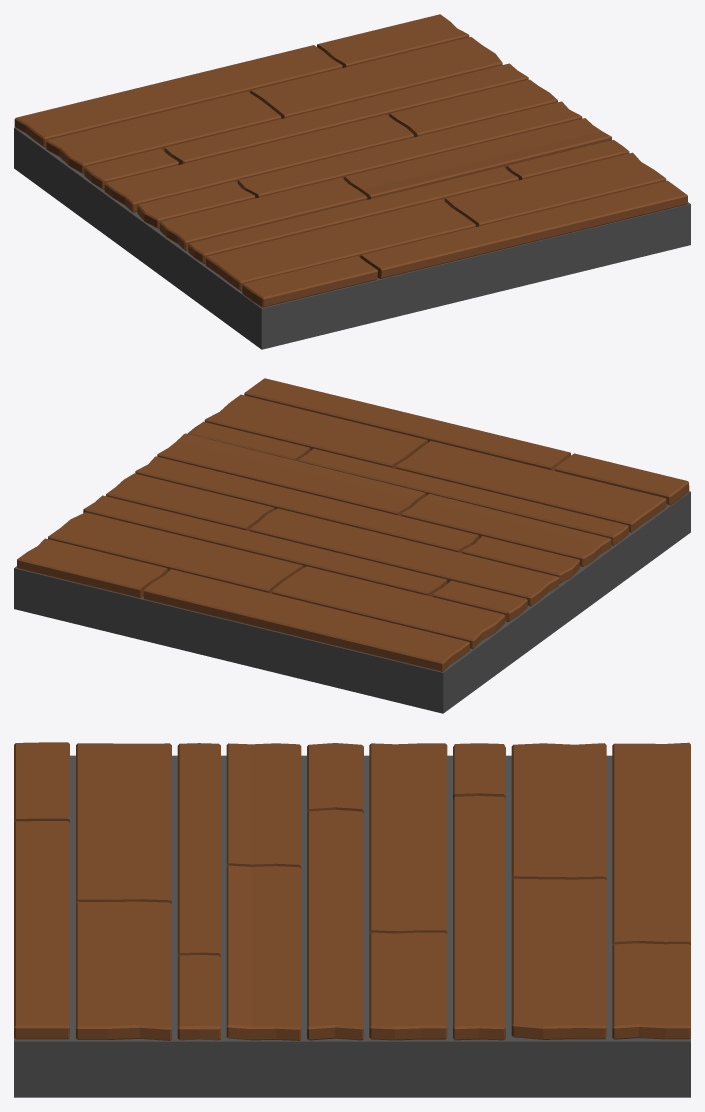
Rendered from ww_foundation_b.glb.
3 renders of one model, top to bottom at view 1: azimuth 30°, elevation 25°; view 2: azimuth 150°, elevation 25°; view 3: azimuth 270°, elevation 25°, orthographic. The views are drawn at different scales.
Parts seen in each view (by area): view 1: Foundation_B; view 2: Foundation_B; view 3: Foundation_B.
Boxes of the visible parts, x1,y1,x2,y2 form: Foundation_B: (14,14,690,349); Foundation_B: (14,378,690,713); Foundation_B: (14,742,690,1097).
Bounding box in the file's own units: 5.28 × 0.6143 × 5.28.
